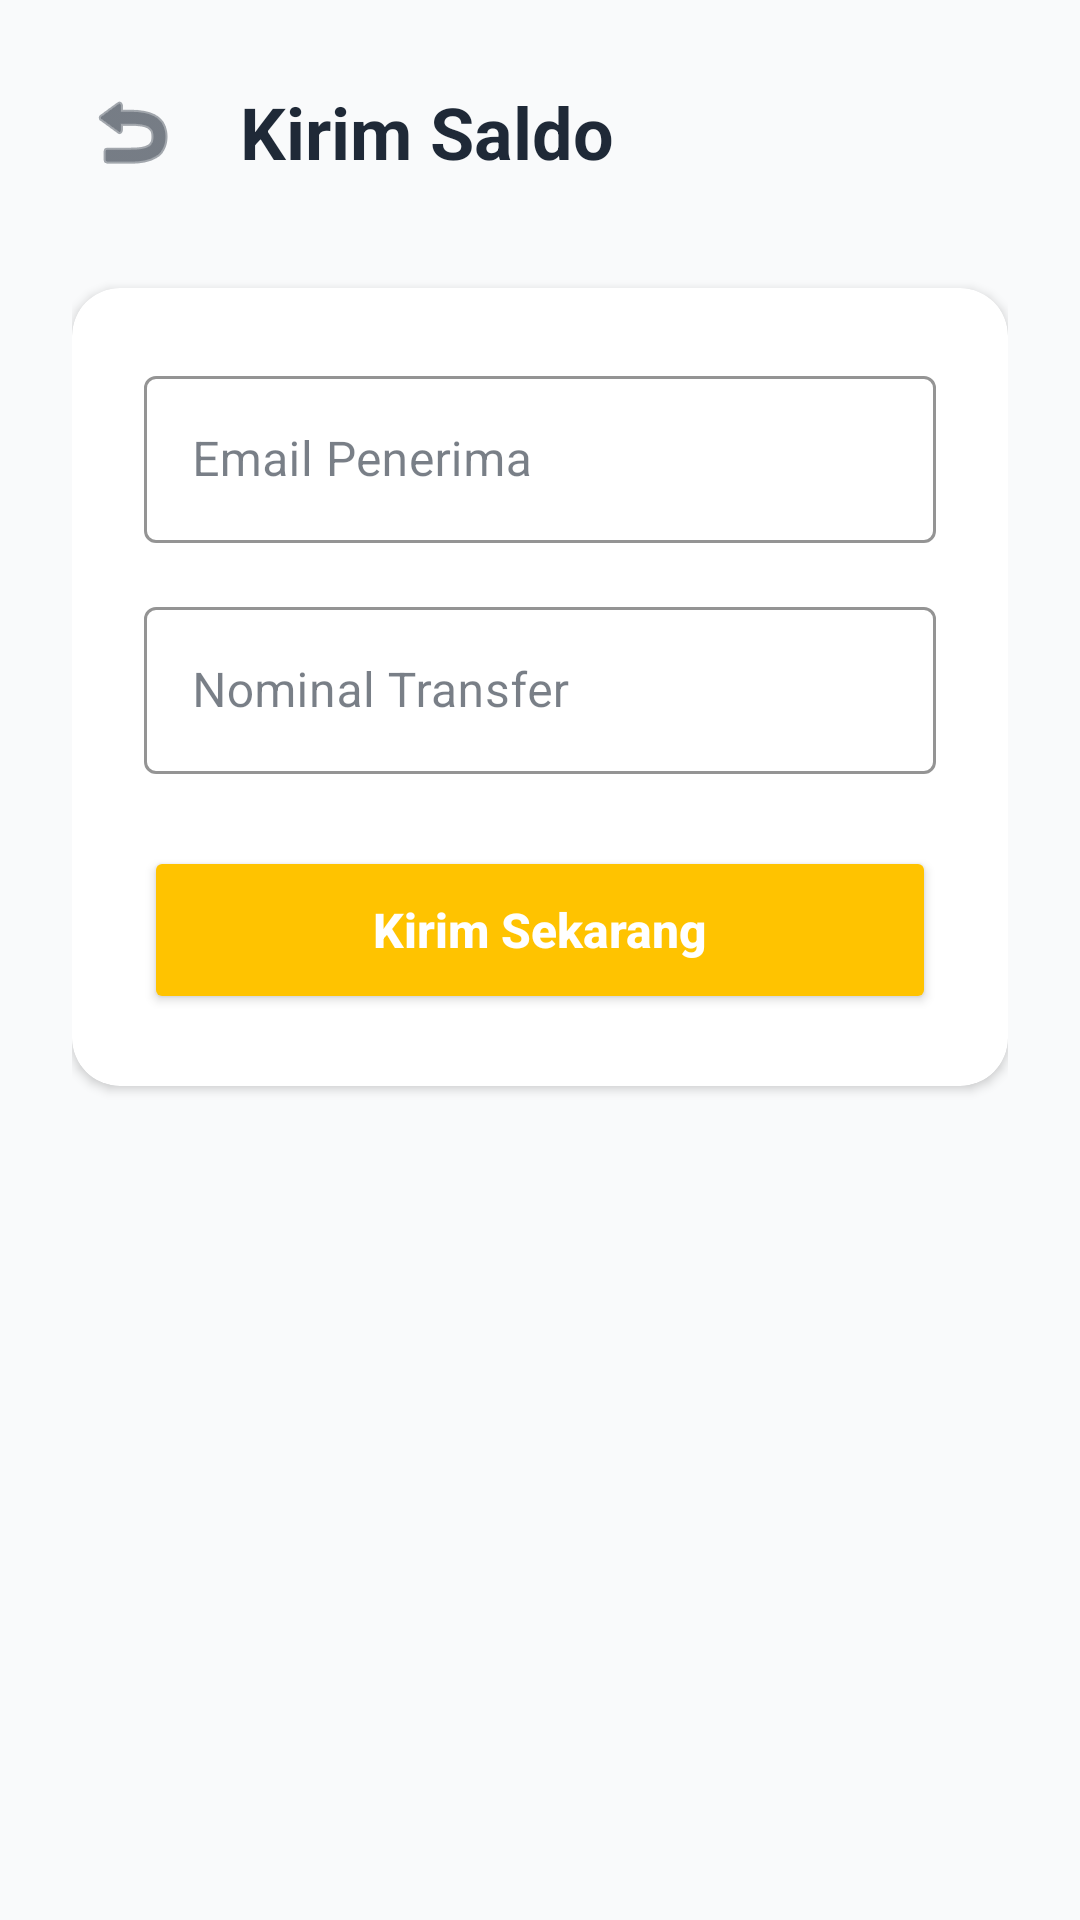

Screen size 1080px×1920px. Icon name, then its center in pixels as [x,y]:
revert: [133,132]
